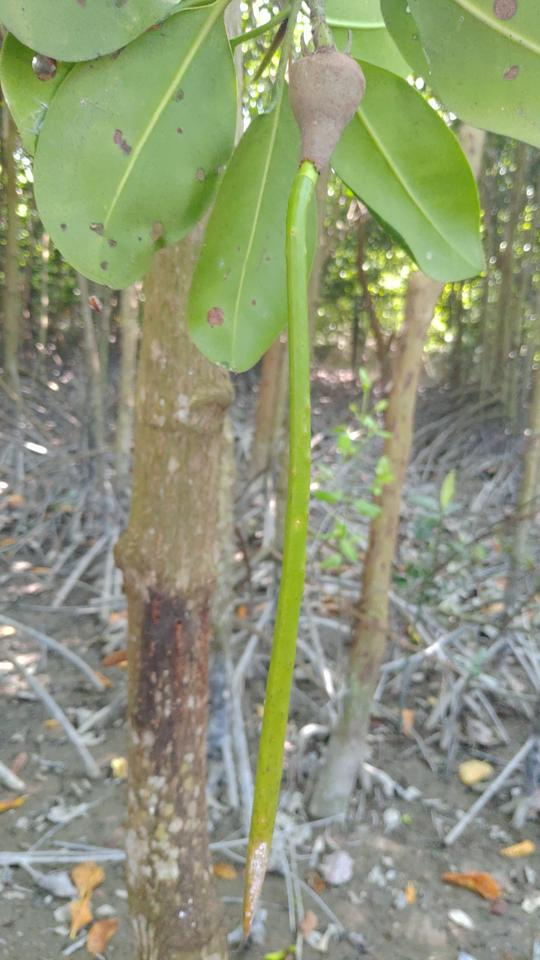setengah matang: (228, 21, 377, 944)
